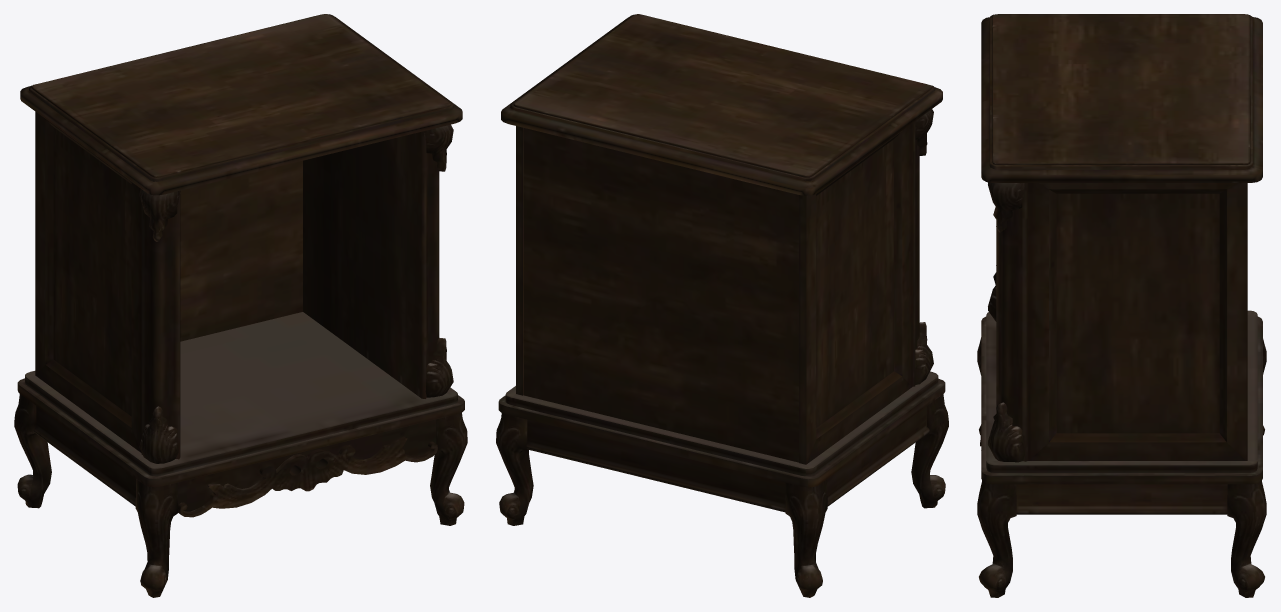
The model's file is ClassicNightstand_01.glb.
3 renders of one model, left to right at view 1: azimuth 30°, elevation 25°; view 2: azimuth 150°, elevation 25°; view 3: azimuth 270°, elevation 25°, orthographic. The views are drawn at different scales.
Visible parts, largest first — view 1: ClassicNightstand_01; view 2: ClassicNightstand_01; view 3: ClassicNightstand_01.
Part boxes in pixels (x1,y1,x2,y2): ClassicNightstand_01: (14, 14, 467, 597); ClassicNightstand_01: (496, 14, 948, 597); ClassicNightstand_01: (977, 14, 1266, 597).
Size of the model in its own units: 0.5678 by 0.7 by 0.4242.
1 material, 1 textured.
